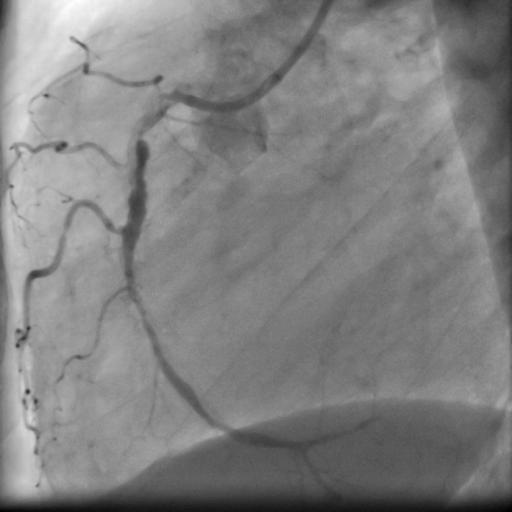Stenosis: (130, 120, 150, 144)
